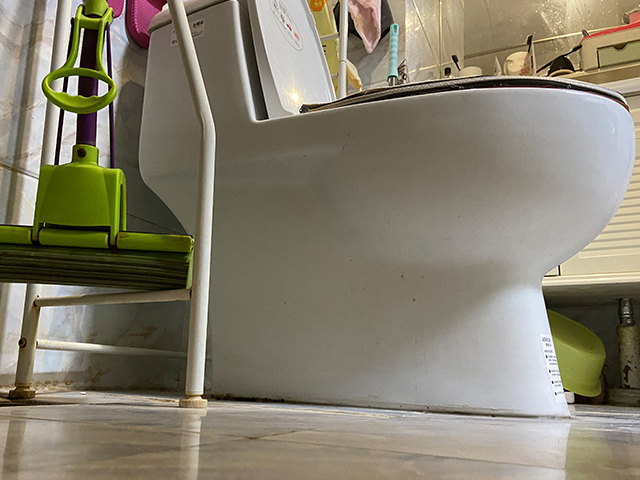closestool: (136, 1, 635, 420)
